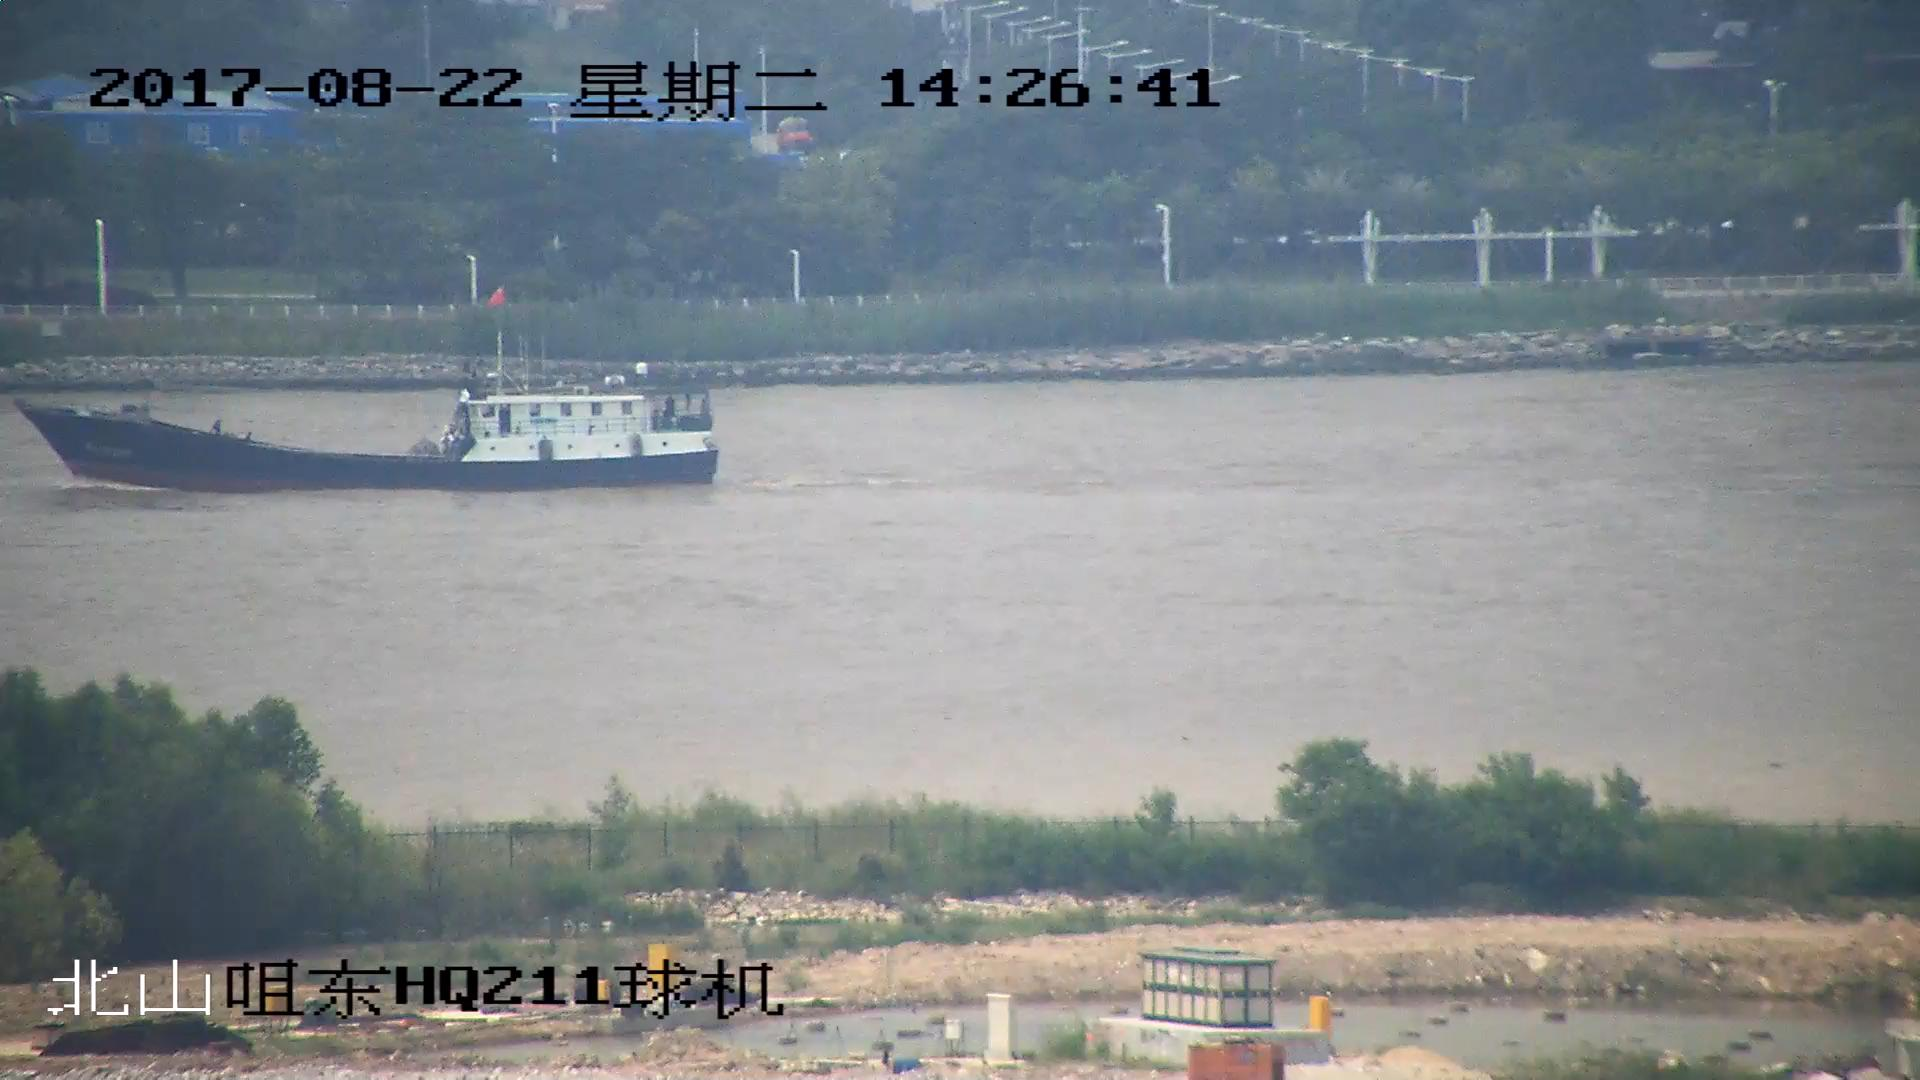fishing boat: (21, 296, 723, 496)
